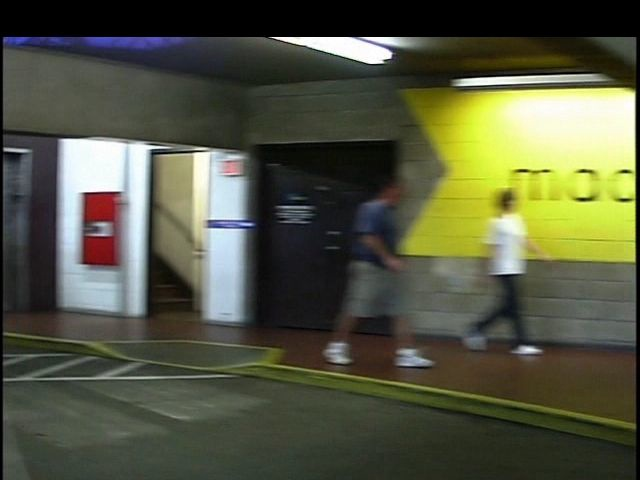person: (307, 169, 419, 372), (443, 180, 532, 361)
